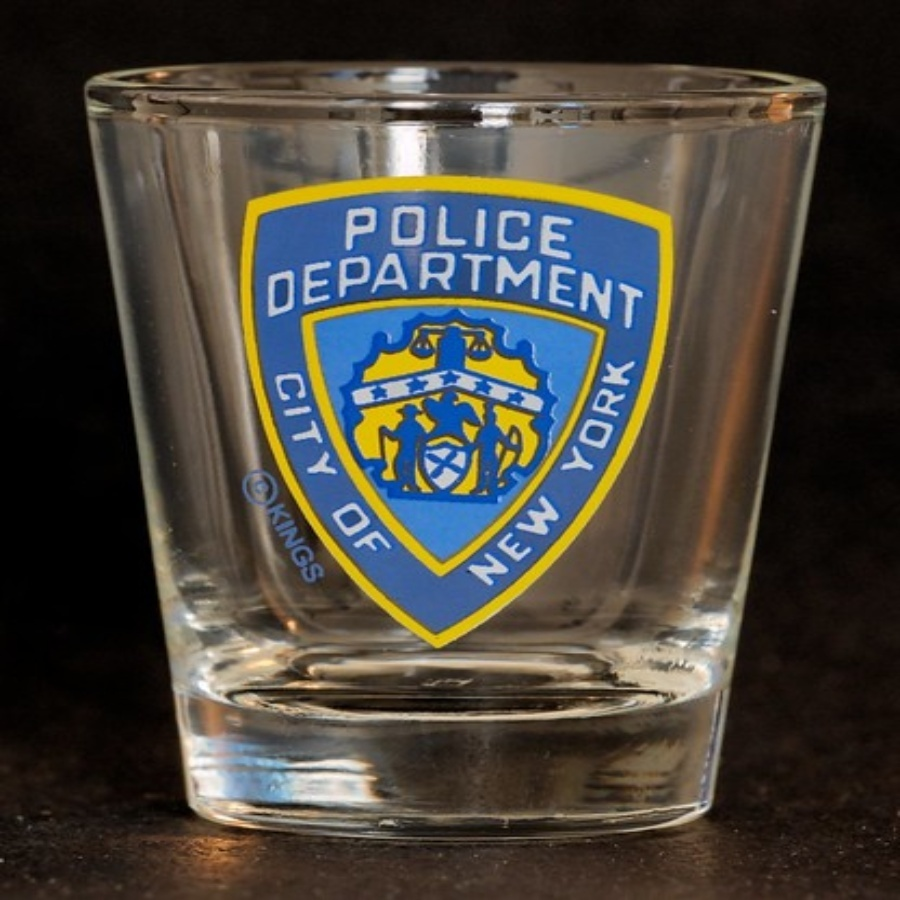whiskey: (119, 73, 824, 825)
